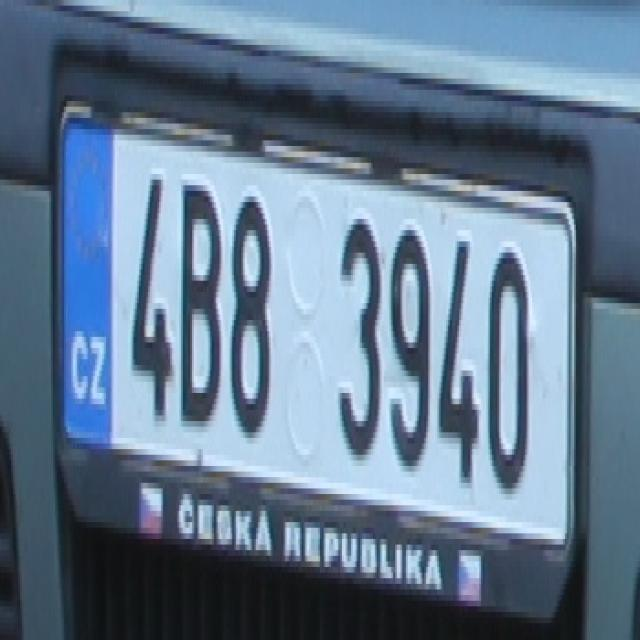0: (485, 225, 530, 494)
3: (333, 208, 382, 466)
4: (126, 157, 172, 421), (435, 230, 477, 483)
8: (225, 185, 272, 432)
9: (389, 213, 432, 483)
B: (179, 174, 223, 427)
